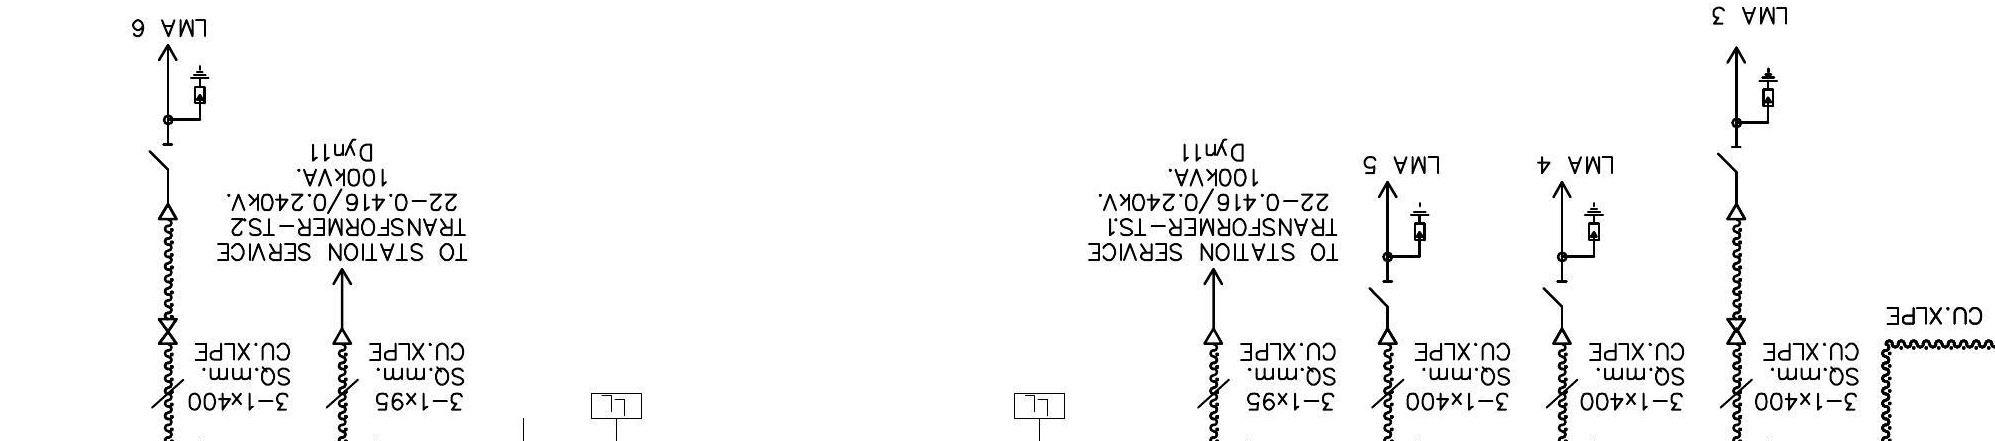22_ds_la_out: (1368, 179, 1430, 308), (148, 43, 210, 172), (1716, 46, 1779, 173), (1542, 180, 1604, 308)
LL: (589, 391, 644, 421), (1011, 391, 1066, 421)
terminator_single: (156, 202, 179, 221), (330, 327, 352, 346), (1201, 328, 1224, 347), (1551, 328, 1574, 347), (1725, 203, 1747, 222), (1377, 328, 1400, 346)
terminator_splicing_kits: (1727, 318, 1747, 346), (158, 318, 178, 346)
